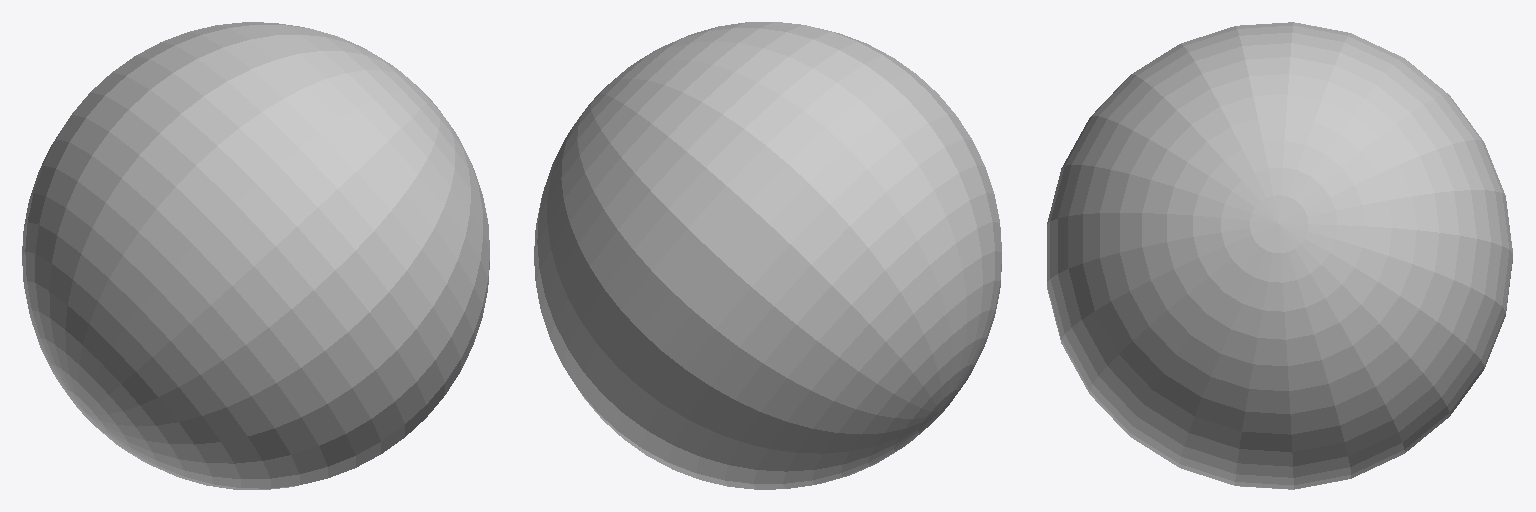
The model's file is CubeWITHAnim0002.obj.
The picture shows the model from 3 angles: view 1: azimuth 30°, elevation 25°; view 2: azimuth 150°, elevation 25°; view 3: azimuth 270°, elevation 25°; orthographic projection.
Parts seen in each view (by area): view 1: NEWJumpBall_Sphere; view 2: NEWJumpBall_Sphere; view 3: NEWJumpBall_Sphere.
Part boxes in pixels (x1,y1,x2,y2): NEWJumpBall_Sphere: (22,22,489,489); NEWJumpBall_Sphere: (534,22,1001,489); NEWJumpBall_Sphere: (1047,22,1512,489).
Bounding box in the file's own units: 2 × 2 × 1.99.